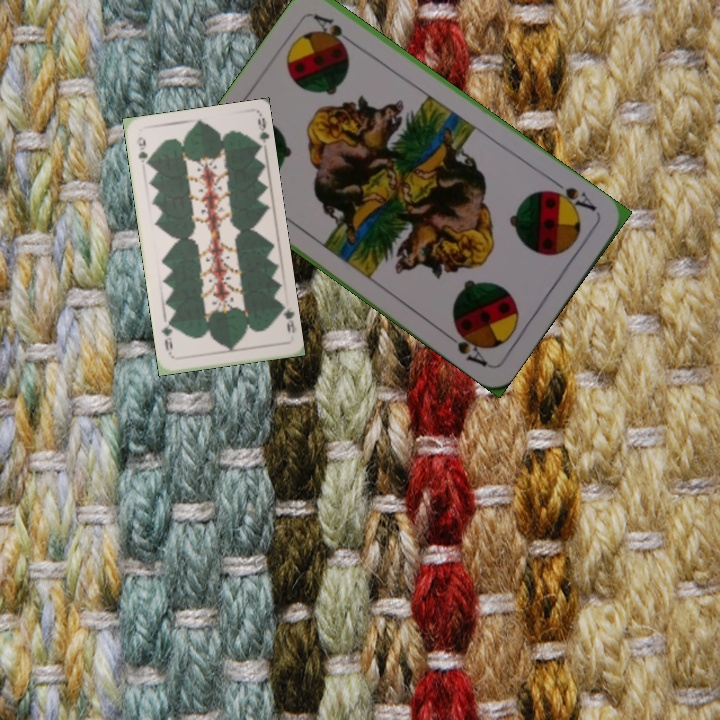G9: (275, 301, 298, 335), (132, 133, 152, 168)
SA: (543, 176, 600, 216)
